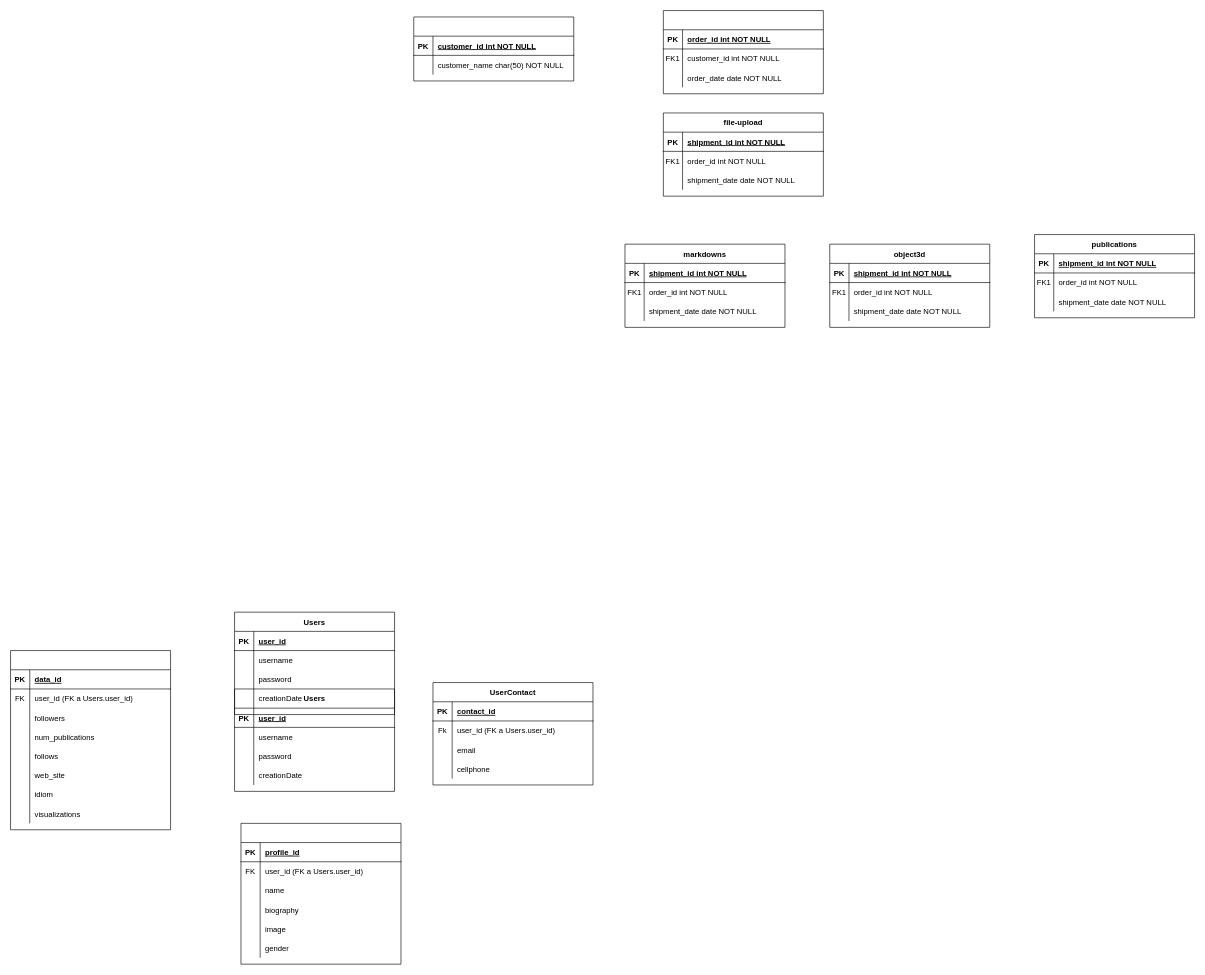
The diagram is 1205 pixels wide and 975 high, and some of its shapes have lost their labels. Each missing label, with the box of its shape:
Categories: (413, 16, 574, 81)
Comments: (663, 10, 823, 94)
UserData: (10, 650, 171, 830)
UserProfile: (240, 823, 401, 964)
